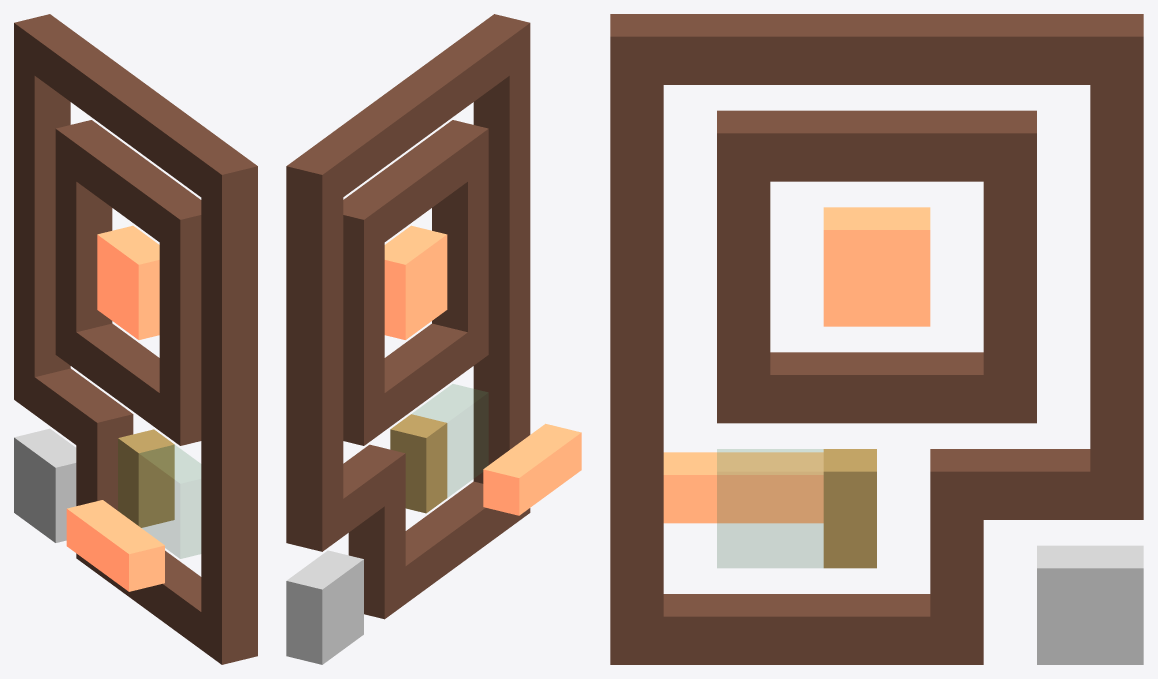
File: Untitled Project (16).glb
The picture shows the model from 3 angles, left to right: view 1: azimuth 30°, elevation 25°; view 2: azimuth 150°, elevation 25°; view 3: azimuth 270°, elevation 25°; orthographic projection. The views are drawn at different scales.
Visible parts, largest first — view 1: voxel_8a5a44_matte, voxel_ff6b4a_emissive, voxel_5aa06e_glass, voxel_f0f0f0_metal, voxel_d9b56b_matte; view 2: voxel_8a5a44_matte, voxel_ff6b4a_emissive, voxel_f0f0f0_metal, voxel_5aa06e_glass, voxel_d9b56b_matte; view 3: voxel_8a5a44_matte, voxel_ff6b4a_emissive, voxel_f0f0f0_metal, voxel_5aa06e_glass, voxel_d9b56b_matte.
Boxes of the visible parts, left/top/right/bottom form: voxel_8a5a44_matte: left=14, top=14, right=257, bottom=664; voxel_ff6b4a_emissive: left=66, top=225, right=164, bottom=591; voxel_5aa06e_glass: left=139, top=445, right=200, bottom=558; voxel_f0f0f0_metal: left=14, top=428, right=76, bottom=542; voxel_d9b56b_matte: left=118, top=429, right=174, bottom=527; voxel_8a5a44_matte: left=286, top=14, right=530, bottom=619; voxel_ff6b4a_emissive: left=384, top=225, right=581, bottom=515; voxel_f0f0f0_metal: left=286, top=550, right=363, bottom=664; voxel_5aa06e_glass: left=412, top=384, right=488, bottom=496; voxel_d9b56b_matte: left=390, top=414, right=447, bottom=513; voxel_8a5a44_matte: left=610, top=14, right=1143, bottom=664; voxel_ff6b4a_emissive: left=663, top=207, right=930, bottom=523; voxel_f0f0f0_metal: left=1037, top=545, right=1143, bottom=664; voxel_5aa06e_glass: left=717, top=449, right=823, bottom=567; voxel_d9b56b_matte: left=823, top=449, right=876, bottom=568.
Size of the model in its own units: 3 by 13 by 10.
